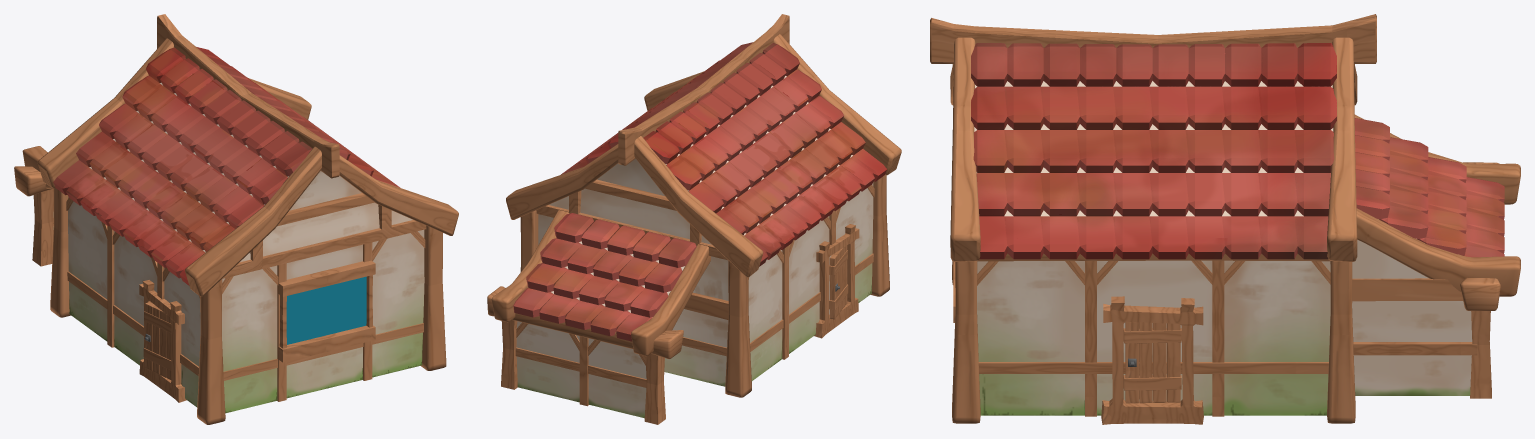
Rendered from HouseNew.fbx.
The picture shows the model from 3 angles, left to right: view 1: azimuth 30°, elevation 25°; view 2: azimuth 150°, elevation 25°; view 3: azimuth 270°, elevation 25°; orthographic projection. The views are drawn at different scales.
Visible parts, largest first — view 1: Cube.048, Cube.030, Cube.031, Cube.034, Cube.033, Cube.036, Cube.032, Cube.046, Cube.018, Wood1, Cube.021, Cube.011 (+5 smaller); view 2: Cube.048, Cube.030, Cube.047, Cube.031, Cube.034, Cube.038, Cube.032, Wood1, Cube.046, Cube.036, Cube.013, Cube.018 (+6 smaller); view 3: Cube.048, Cube.030, Cube.047, Cube.031, Cube.034, Cube.032, Cube.038, Cube.004, Cube.003, Cube.039, Cube.015, Cube.042 (+5 smaller).
Boxes of the visible parts, bbox=[...] form: Cube.048: bbox=[53, 47, 400, 285]; Cube.030: bbox=[53, 82, 424, 413]; Cube.031: bbox=[37, 38, 458, 296]; Cube.034: bbox=[50, 188, 446, 424]; Cube.033: bbox=[278, 260, 375, 362]; Cube.036: bbox=[222, 193, 426, 278]; Cube.032: bbox=[157, 14, 339, 178]; Cube.046: bbox=[139, 280, 186, 402]; Cube.018: bbox=[143, 302, 171, 379]; Wood1: bbox=[32, 189, 53, 266]; Cube.021: bbox=[223, 323, 423, 380]; Cube.011: bbox=[107, 226, 114, 347]; Cube.048: bbox=[561, 42, 887, 266]; Cube.030: bbox=[516, 76, 873, 418]; Cube.047: bbox=[513, 213, 696, 341]; Cube.031: bbox=[506, 34, 901, 277]; Cube.034: bbox=[520, 174, 889, 397]; Cube.038: bbox=[491, 210, 710, 356]; Cube.032: bbox=[618, 14, 789, 165]; Wood1: bbox=[501, 320, 665, 424]; Cube.046: bbox=[814, 224, 859, 338]; Cube.036: bbox=[536, 179, 727, 260]; Cube.013: bbox=[487, 286, 683, 359]; Cube.018: bbox=[829, 245, 848, 319]; Cube.048: bbox=[971, 43, 1336, 259]; Cube.030: bbox=[974, 81, 1472, 415]; Cube.047: bbox=[1354, 118, 1504, 257]; Cube.031: bbox=[950, 37, 1357, 261]; Cube.034: bbox=[952, 261, 1355, 423]; Cube.032: bbox=[930, 14, 1376, 63]; Cube.038: bbox=[1354, 114, 1520, 296]; Cube.004: bbox=[1101, 296, 1203, 424]; Cube.003: bbox=[1123, 321, 1181, 403]; Cube.039: bbox=[978, 362, 1328, 373]; Cube.015: bbox=[1352, 278, 1463, 301]; Cube.042: bbox=[1212, 260, 1224, 416].
Bounding box in the file's own units: 5458 × 5153 × 8263.
6 materials, 4 textured.
